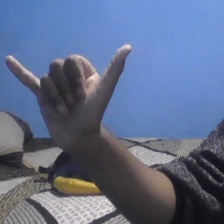Y: (3, 40, 136, 150)
